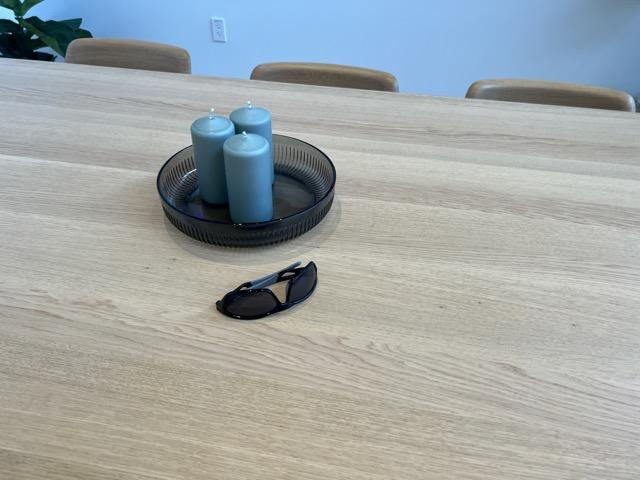Sunglasses: (215, 260, 318, 322)
